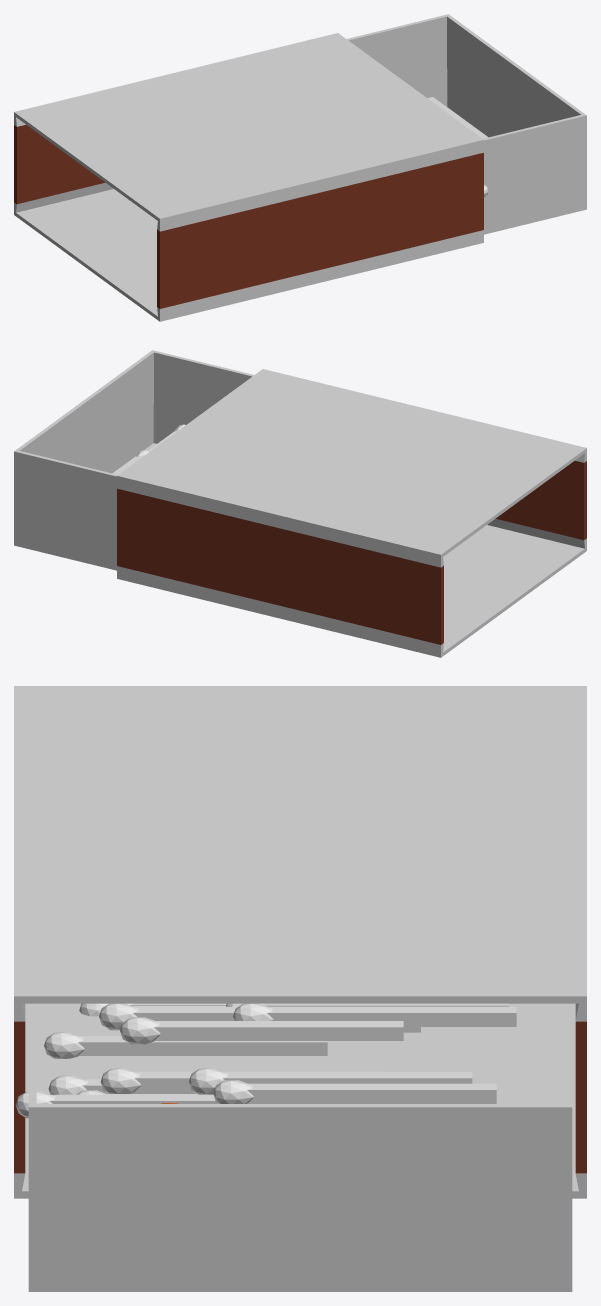
Rendered from Matches Box.fbx.
The picture shows the model from 3 angles, top to bottom: view 1: azimuth 30°, elevation 25°; view 2: azimuth 150°, elevation 25°; view 3: azimuth 270°, elevation 25°; orthographic projection. The views are drawn at different scales.
Visible parts, largest first — view 1: Box, Box.Inside; view 2: Box, Box.Inside; view 3: Box, Box.Inside, Box.Inside.001.
Part boxes in pixels (x1,y1,x2,y2): Box: [14, 33, 483, 321]; Box.Inside: [347, 14, 586, 234]; Box: [117, 369, 586, 657]; Box.Inside: [14, 350, 253, 570]; Box: [14, 686, 586, 1198]; Box.Inside: [28, 1003, 572, 1291]; Box.Inside.001: [15, 1003, 516, 1118].
Size of the model in its own units: 85.75 by 19.6 by 50.34.
